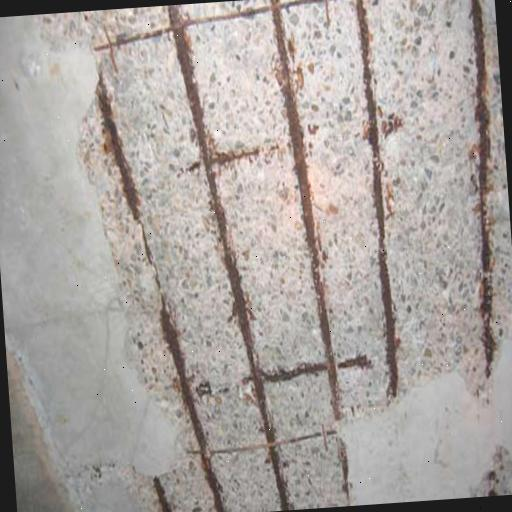spalling: (37, 0, 512, 512), (471, 444, 512, 498)
